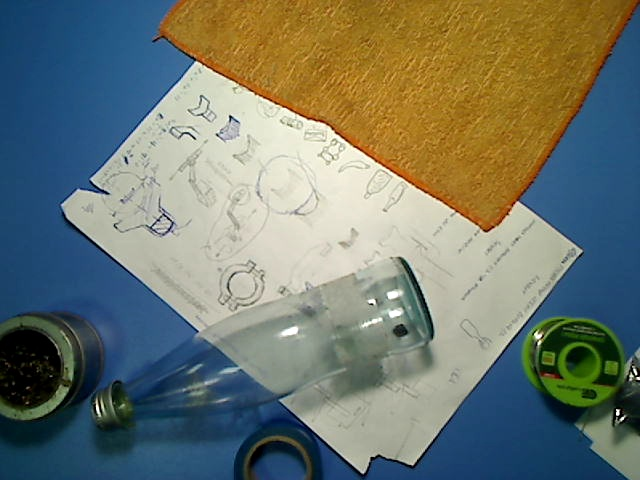bottle: (90, 257, 435, 432)
